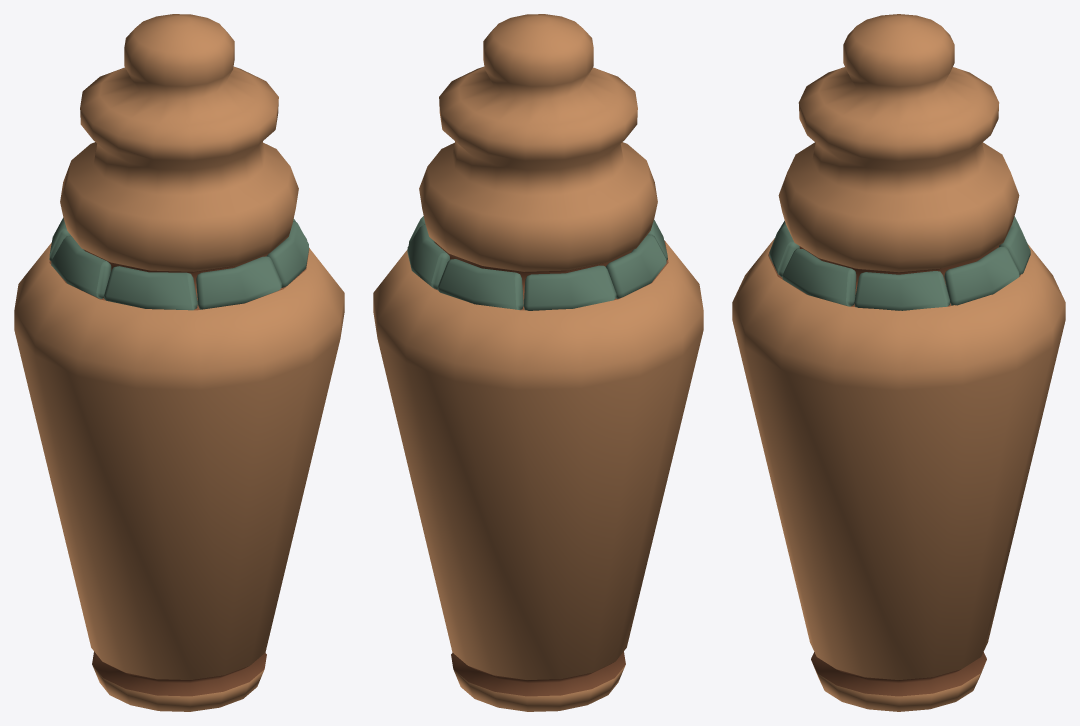
The model's file is FBX_urn_01.fbx.
3 renders of one model, left to right at view 1: azimuth 30°, elevation 25°; view 2: azimuth 150°, elevation 25°; view 3: azimuth 270°, elevation 25°, orthographic.
Parts seen in each view (by area): view 1: Cylinder.028; view 2: Cylinder.028; view 3: Cylinder.028.
Part boxes in pixels (bbox=[...]): Cylinder.028: bbox=[14, 14, 344, 711]; Cylinder.028: bbox=[373, 14, 703, 711]; Cylinder.028: bbox=[732, 14, 1065, 711].
Bounding box in the file's own units: 136 × 295 × 136.
